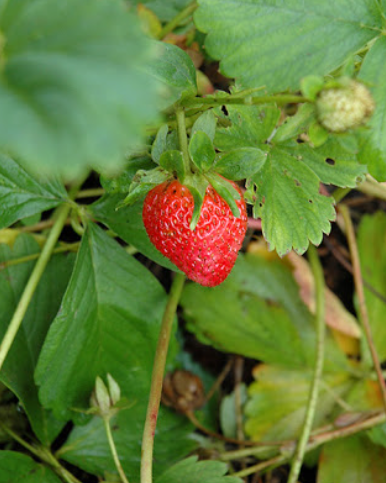ripe: (143, 171, 249, 289)
unripe: (312, 79, 377, 131)
